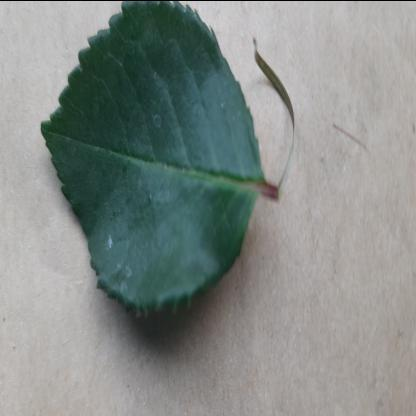normal: (38, 10, 262, 324)
